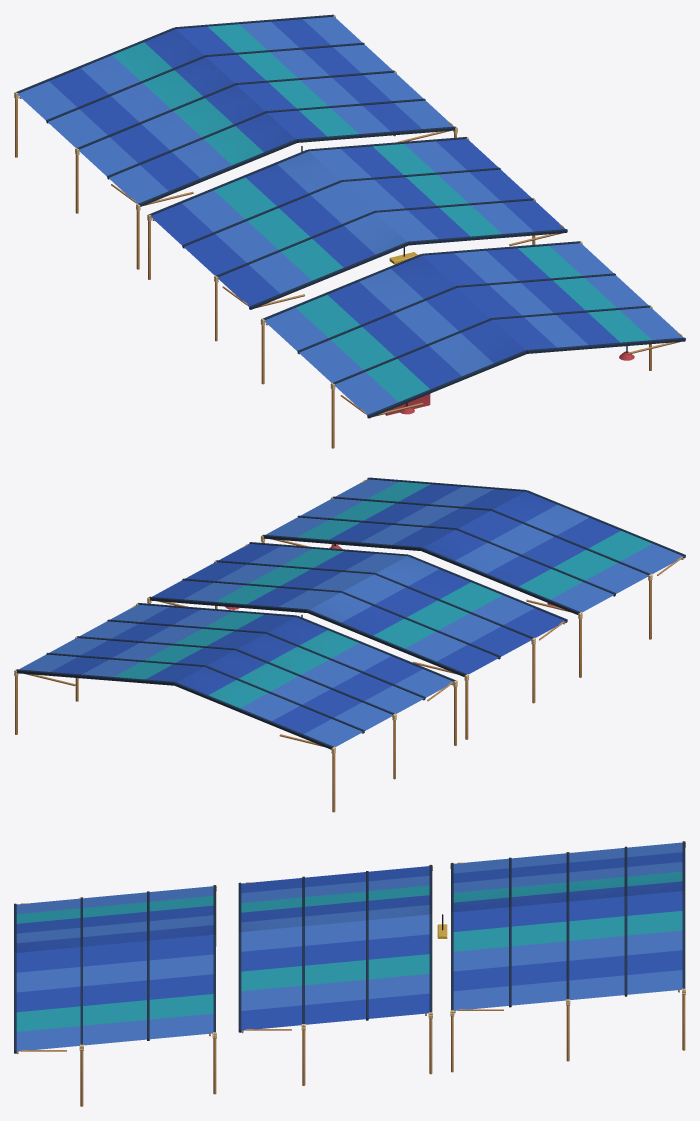
Rendered from canopy.glb.
3 views of the same model, one above another, from view 1: azimuth 30°, elevation 25°; view 2: azimuth 150°, elevation 25°; view 3: azimuth 270°, elevation 25° (orthographic). The views are drawn at different scales.
Parts seen in each view (by area): view 1: canopy; view 2: canopy; view 3: canopy.
Boxes of the visible parts, left/top/right/bottom form: canopy: left=14, top=14, right=685, bottom=448; canopy: left=14, top=477, right=685, bottom=812; canopy: left=14, top=841, right=685, bottom=1106.
Bounding box in the file's own units: 18.07 × 8.08 × 34.52.
